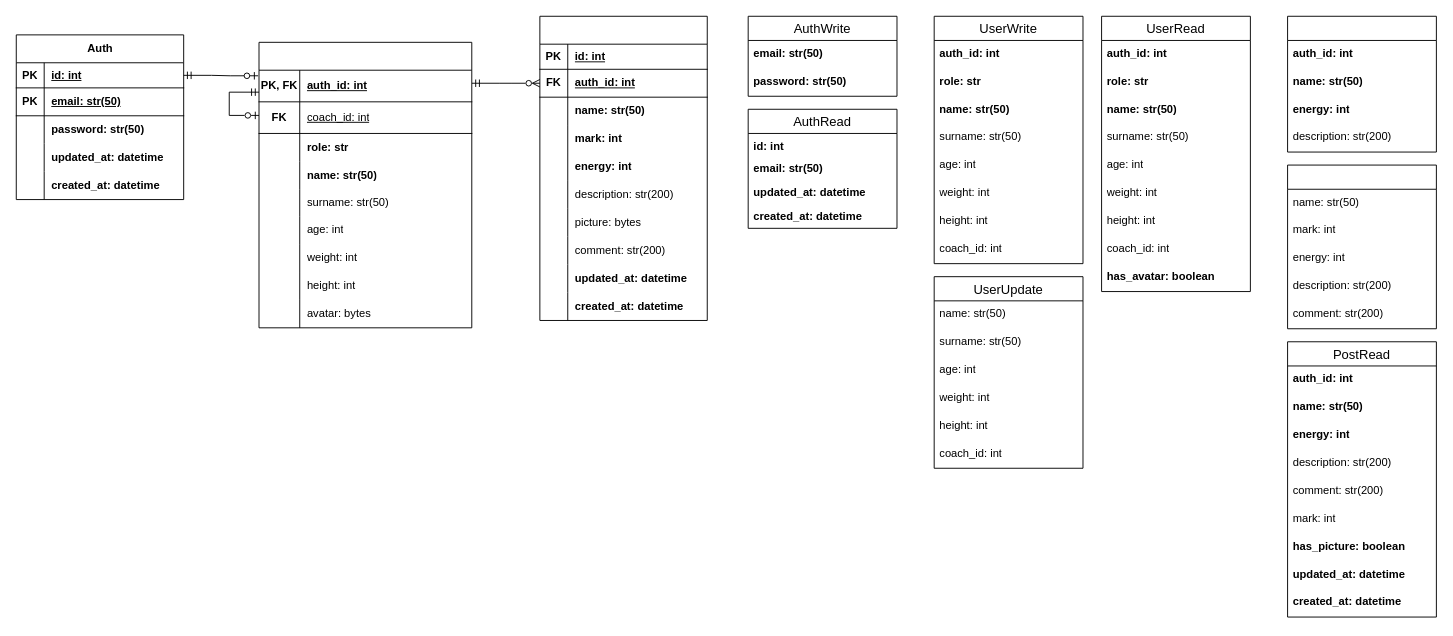
Some shapes in this 1453 by 636 pixel diagram are drawn without their labels. Each missing label, with the box of its shape:
Post: (539, 15, 707, 320)
PostUpdate: (1287, 164, 1436, 329)
PostWrite: (1287, 15, 1436, 152)
User: (258, 41, 472, 328)
